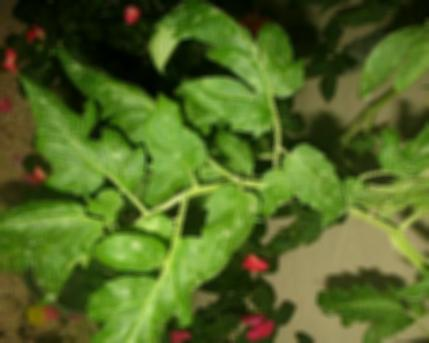Tomato mold leaf: (147, 11, 309, 134), (18, 72, 148, 204), (76, 270, 207, 343), (0, 200, 95, 300), (195, 186, 267, 283), (352, 13, 429, 97), (282, 141, 347, 222), (90, 224, 170, 273), (372, 113, 429, 179)
